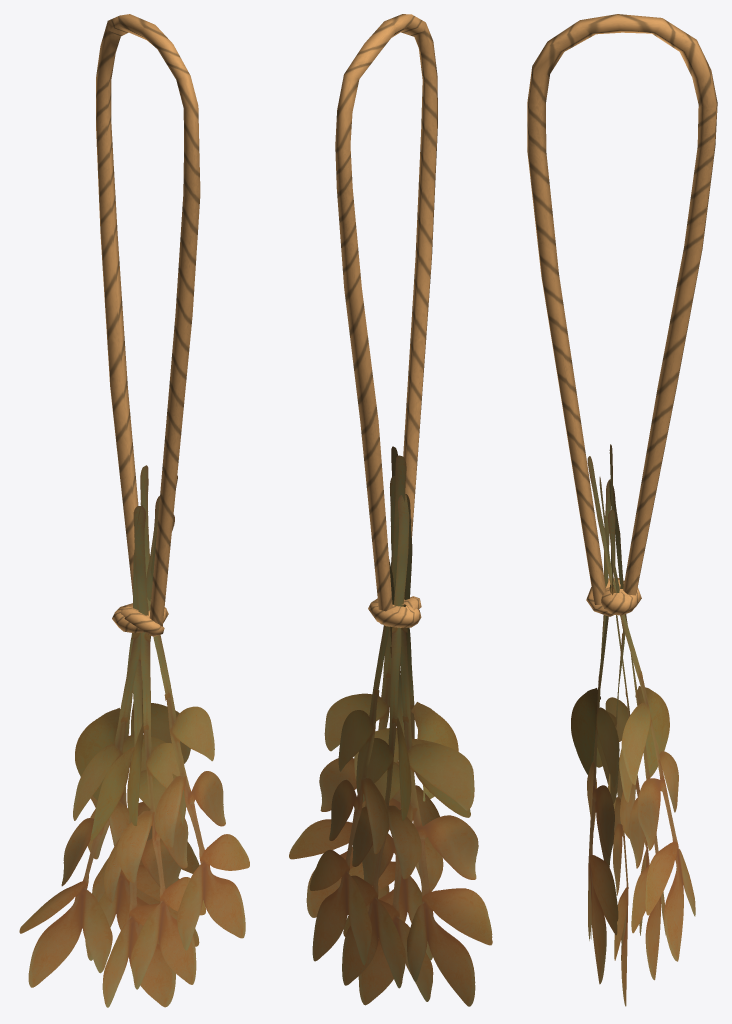
File: SM_Potion_Props_Herb_Broom_Ceiling_06.fbx
3 views of the same model, side by side, from view 1: azimuth 30°, elevation 25°; view 2: azimuth 150°, elevation 25°; view 3: azimuth 270°, elevation 25° (orthographic).
Visible parts, largest first — view 1: SM_Potion_Props_Herb_Broom_Ceiling_06_LOD0; view 2: SM_Potion_Props_Herb_Broom_Ceiling_06_LOD0; view 3: SM_Potion_Props_Herb_Broom_Ceiling_06_LOD0.
Boxes of the visible parts, x1=… form: SM_Potion_Props_Herb_Broom_Ceiling_06_LOD0: x1=19, y1=14, x2=249, y2=1007; SM_Potion_Props_Herb_Broom_Ceiling_06_LOD0: x1=289, y1=14, x2=492, y2=1006; SM_Potion_Props_Herb_Broom_Ceiling_06_LOD0: x1=527, y1=14, x2=717, y2=1006.
Size of what is drawn, in the model's own units: 23.56 by 97.86 by 17.17.
